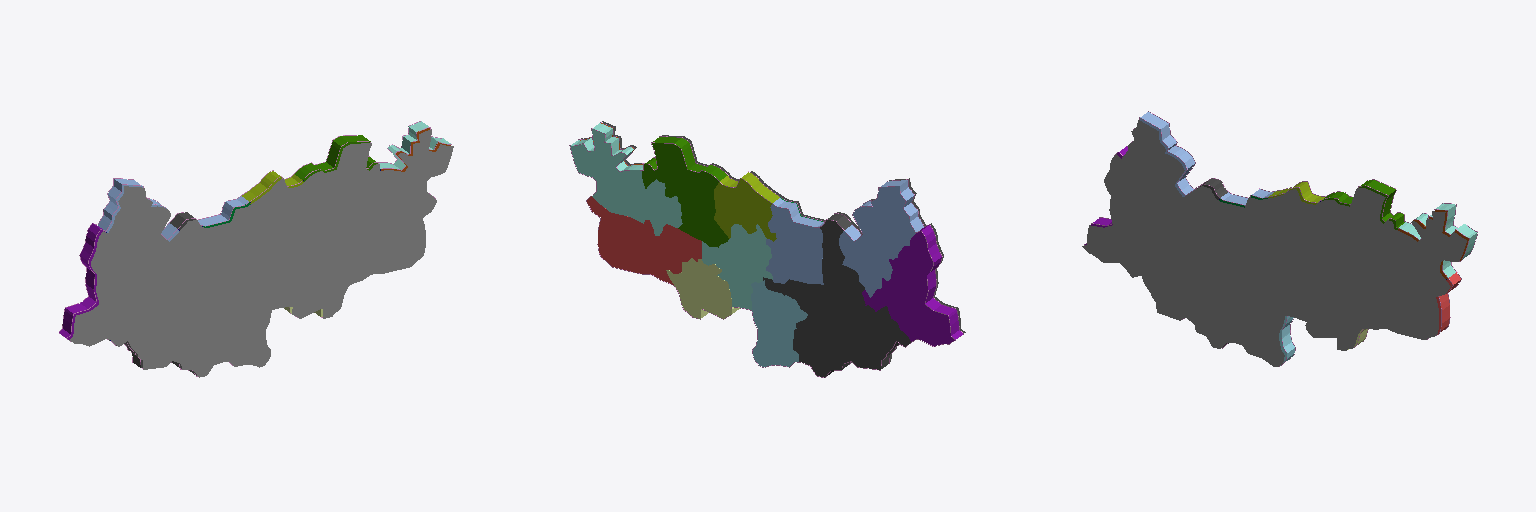
The model's file is deqing08.obj.
The picture shows the model from 3 angles: view 1: azimuth 30°, elevation 25°; view 2: azimuth 150°, elevation 25°; view 3: azimuth 330°, elevation 25°; orthographic projection.
Parts seen in each view (by area): view 1: texture, fatou_bottom, zhongguan_bottom, moganshan_bottom, xinshi_bottom; view 2: wukang_bottom, fatou_bottom, xinshi_bottom, moganshan_bottom, zhongguan_bottom, buxi_bottom, qiyuan_bottom, xiazhuhu_bottom, luoshe_bottom, xinan_bottom, leidian_bottom, shuyue_bottom (+2 smaller); view 3: texture, xinshi_bottom, moganshan_bottom, zhongguan_bottom.
Boxes of the visible parts, x1=… form: texture: x1=69, y1=129, x2=453, y2=377; fatou_bottom: x1=59, y1=223, x2=102, y2=337; zhongguan_bottom: x1=295, y1=135, x2=375, y2=178; moganshan_bottom: x1=98, y1=179, x2=176, y2=239; xinshi_bottom: x1=379, y1=121, x2=450, y2=169; wukang_bottom: x1=763, y1=214, x2=910, y2=377; fatou_bottom: x1=862, y1=225, x2=962, y2=346; xinshi_bottom: x1=570, y1=123, x2=682, y2=235; moganshan_bottom: x1=839, y1=180, x2=923, y2=297; zhongguan_bottom: x1=642, y1=137, x2=728, y2=247; buxi_bottom: x1=766, y1=198, x2=823, y2=284; qiyuan_bottom: x1=702, y1=224, x2=772, y2=309; xiazhuhu_bottom: x1=751, y1=280, x2=807, y2=366; luoshe_bottom: x1=714, y1=173, x2=779, y2=241; xinan_bottom: x1=627, y1=217, x2=701, y2=284; leidian_bottom: x1=666, y1=258, x2=739, y2=318; shuyue_bottom: x1=587, y1=196, x2=644, y2=273; texture: x1=1082, y1=120, x2=1466, y2=366; xinshi_bottom: x1=1399, y1=203, x2=1477, y2=277; moganshan_bottom: x1=1140, y1=112, x2=1194, y2=194; zhongguan_bottom: x1=1324, y1=180, x2=1404, y2=227.
Size of the model in its own units: 85.16 by 45.4 by 4.07.